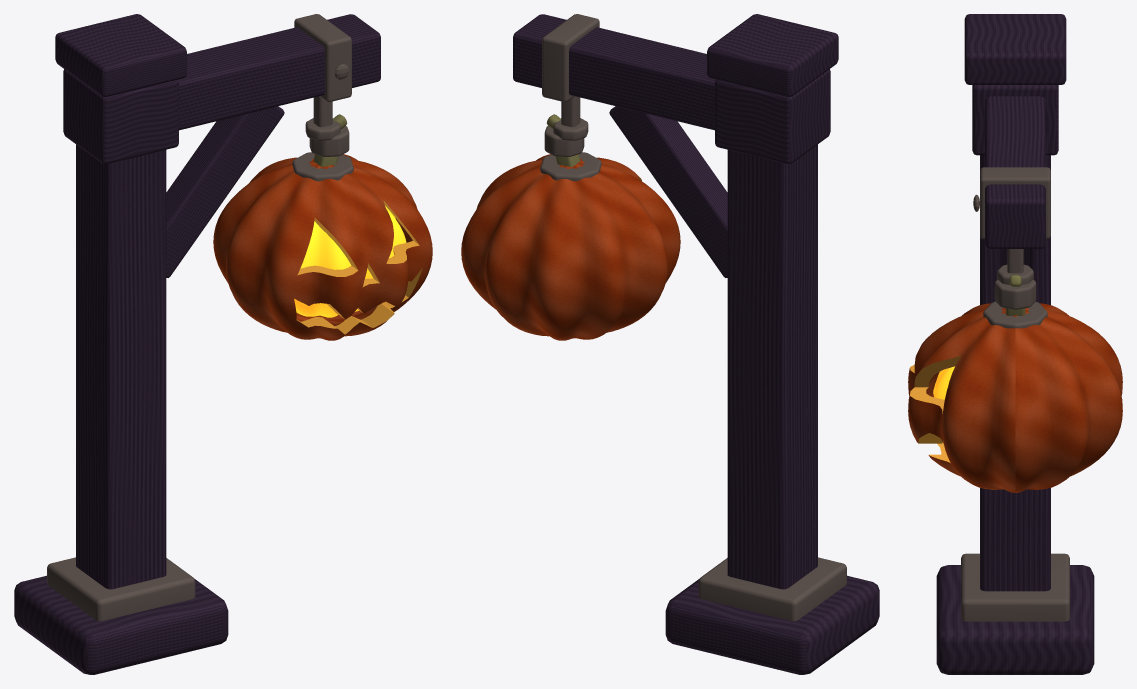
Rendered from 02_Braced_L_Arm.glb.
The picture shows the model from 3 angles, left to right: view 1: azimuth 30°, elevation 25°; view 2: azimuth 150°, elevation 25°; view 3: azimuth 270°, elevation 25°; orthographic projection. The views are drawn at different scales.
Visible parts, largest first — view 1: 02_Post, 02_Pumpkin_Rind, 02_Horizontal_Arm, 02_Base_Lower, 02_Diagonal_Brace, 02_Post_Joint_Collar, 02_Post_Top_Cap, 02_Base_Upper, 02_Arm_Iron_Strap, 02_Emissive_Interior, 02_Pumpkin_Crown, 02_Stem_Clamp; view 2: 02_Post, 02_Pumpkin_Rind, 02_Horizontal_Arm, 02_Base_Lower, 02_Diagonal_Brace, 02_Post_Joint_Collar, 02_Post_Top_Cap, 02_Base_Upper, 02_Arm_Iron_Strap, 02_Pumpkin_Crown, 02_Stem_Clamp; view 3: 02_Pumpkin_Rind, 02_Base_Lower, 02_Post, 02_Horizontal_Arm, 02_Post_Top_Cap, 02_Base_Upper, 02_Post_Joint_Collar, 02_Arm_Iron_Strap, 02_Pumpkin_Crown, 02_Stem_Clamp, 02_Rod_Collar, 02_Emissive_Interior (+2 smaller).
Boxes of the visible parts, <box> form: 02_Post: <box>76,144,166,589</box>; 02_Pumpkin_Rind: <box>213,154,432,340</box>; 02_Horizontal_Arm: <box>178,14,380,130</box>; 02_Base_Lower: <box>14,575,228,674</box>; 02_Diagonal_Brace: <box>166,106,284,277</box>; 02_Post_Joint_Collar: <box>63,69,178,163</box>; 02_Post_Top_Cap: <box>55,14,186,96</box>; 02_Base_Upper: <box>47,557,195,621</box>; 02_Arm_Iron_Strap: <box>294,14,351,101</box>; 02_Emissive_Interior: <box>294,205,406,317</box>; 02_Pumpkin_Crown: <box>292,152,353,181</box>; 02_Stem_Clamp: <box>309,126,349,156</box>; 02_Post: <box>727,144,817,589</box>; 02_Pumpkin_Rind: <box>461,154,680,340</box>; 02_Horizontal_Arm: <box>513,14,715,130</box>; 02_Base_Lower: <box>665,575,879,674</box>; 02_Diagonal_Brace: <box>609,106,727,277</box>; 02_Post_Joint_Collar: <box>715,69,830,163</box>; 02_Post_Top_Cap: <box>707,14,838,96</box>; 02_Base_Upper: <box>698,557,846,621</box>; 02_Arm_Iron_Strap: <box>542,14,599,101</box>; 02_Pumpkin_Crown: <box>540,152,601,181</box>; 02_Stem_Clamp: <box>544,126,584,156</box>; 02_Pumpkin_Rind: <box>908,303,1122,492</box>; 02_Base_Lower: <box>936,565,1094,674</box>; 02_Post: <box>980,155,1050,591</box>; 02_Horizontal_Arm: <box>985,96,1045,248</box>; 02_Post_Top_Cap: <box>964,14,1066,84</box>; 02_Base_Upper: <box>961,553,1069,621</box>; 02_Post_Joint_Collar: <box>972,85,1058,155</box>; 02_Arm_Iron_Strap: <box>980,167,1050,239</box>; 02_Pumpkin_Crown: <box>983,301,1047,328</box>; 02_Stem_Clamp: <box>994,279,1036,309</box>; 02_Rod_Collar: <box>997,264,1033,284</box>; 02_Emissive_Interior: <box>933,366,954,399</box>.
Size of the model in its own units: 1.72 by 2.65 by 0.8462.
Materials: 6 (2 with a texture image).
